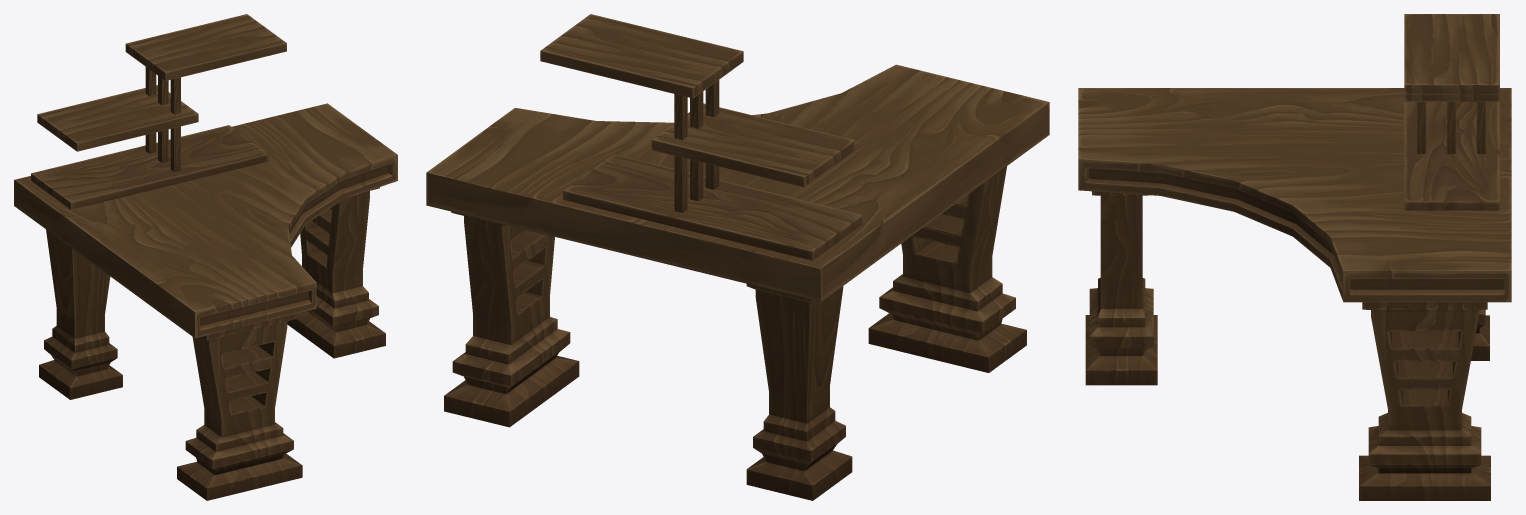
File: Alchemist_table.FBX
The picture shows the model from 3 angles, left to right: view 1: azimuth 30°, elevation 25°; view 2: azimuth 150°, elevation 25°; view 3: azimuth 270°, elevation 25°; orthographic projection. The views are drawn at different scales.
Parts seen in each view (by area): view 1: Alchemist_table; view 2: Alchemist_table; view 3: Alchemist_table.
Part boxes in pixels (x1,y1,x2,y2): Alchemist_table: [14, 14, 397, 500]; Alchemist_table: [426, 14, 1049, 500]; Alchemist_table: [1078, 14, 1511, 500].
Bounding box in the file's own units: 1506 × 1415 × 1506.
